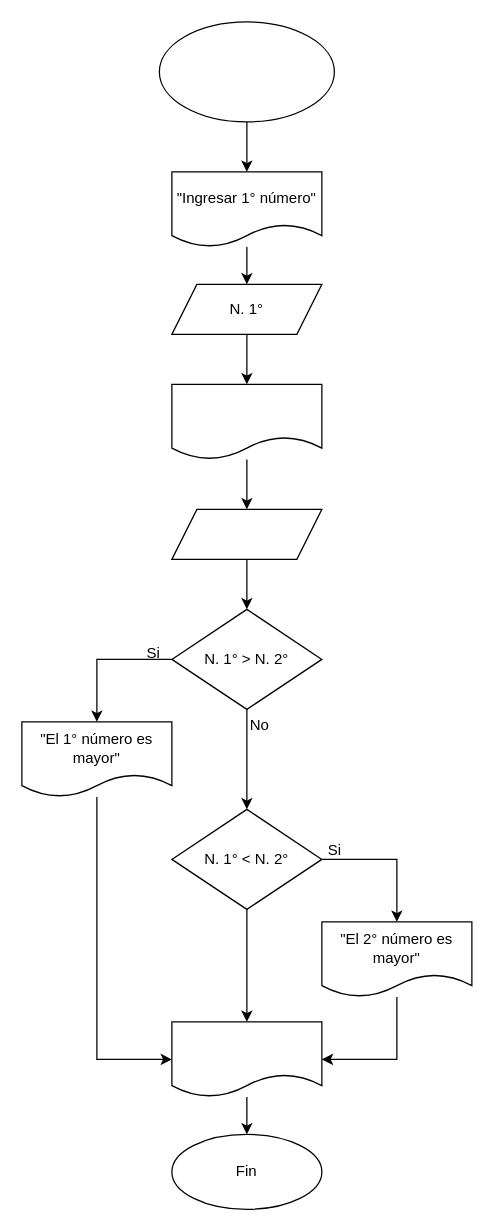
Image size: 494x1231. Some labels were removed from this diagram. The shapes that lost their labels are listed below. From the top down, each one's centre as x and y in pixels, then its label:
point 246,71: Inicio
point 246,421: "Ingresar 2° número"
point 246,533: N. 2°
point 246,1059: "Los números son iguales"
